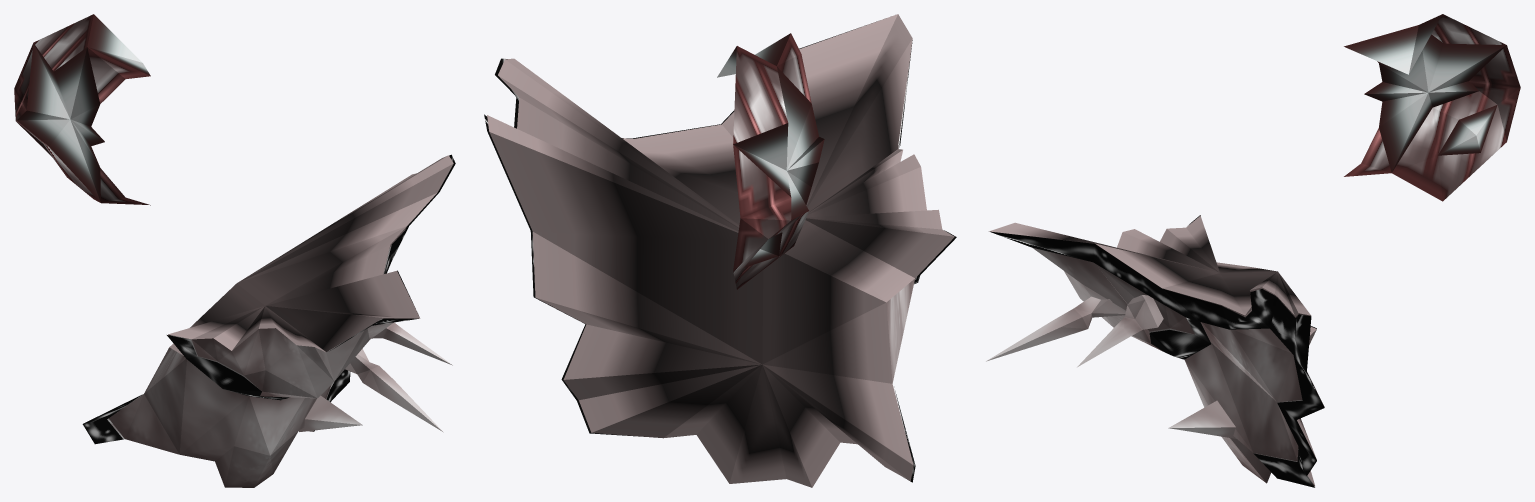
The picture shows the model from 3 angles, left to right: view 1: azimuth 30°, elevation 25°; view 2: azimuth 150°, elevation 25°; view 3: azimuth 270°, elevation 25°; orthographic projection. The views are drawn at different scales.
Parts seen in each view (by area): view 1: B_0044_1b_0, B_0044_1b_1; view 2: B_0044_1b_0, B_0044_1b_1; view 3: B_0044_1b_0, B_0044_1b_1.
Part boxes in pixels (box(x1,y1,x2,y2)): B_0044_1b_0: box(14, 14, 453, 487); B_0044_1b_1: box(82, 154, 455, 444); B_0044_1b_0: box(487, 14, 954, 487); B_0044_1b_1: box(484, 21, 956, 482); B_0044_1b_0: box(986, 14, 1520, 486); B_0044_1b_1: box(990, 215, 1324, 487).
Bounding box in the file's own units: 2.11 × 2.47 × 2.83.
